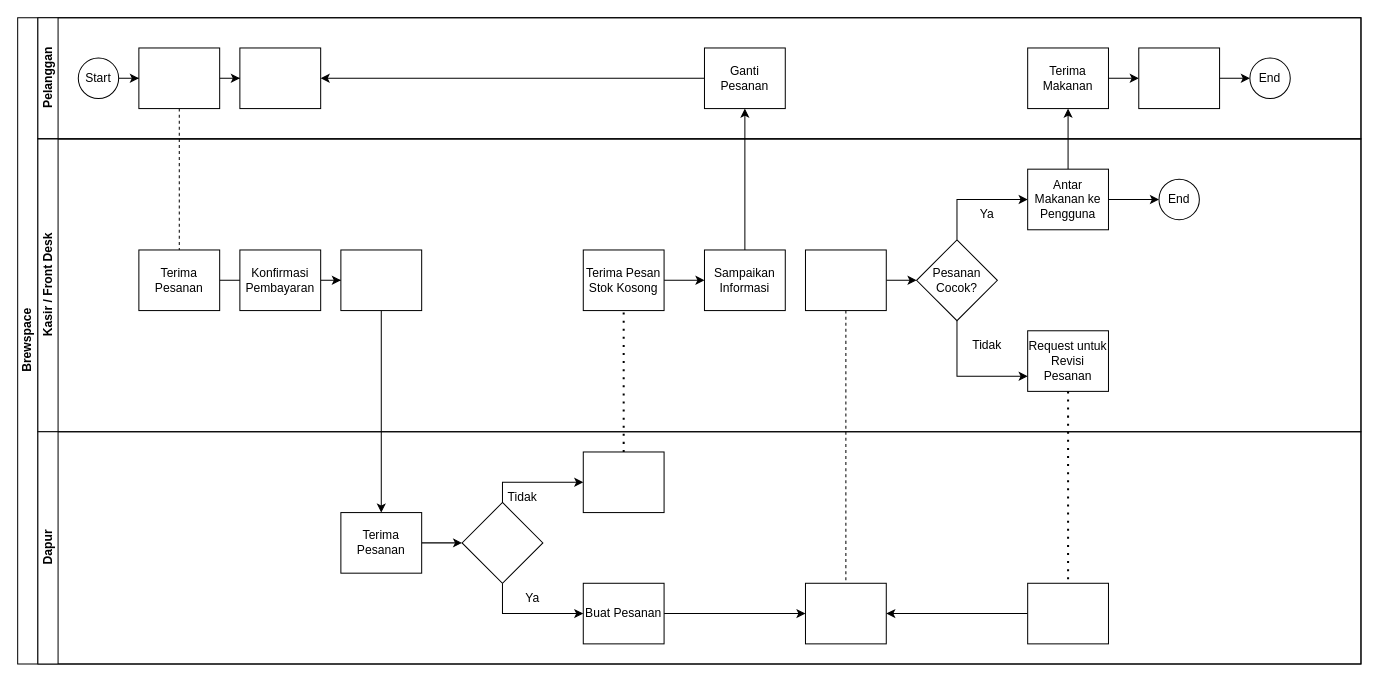
This 1379x682 diagram has some shape labels left out. The centre of each missing label's shape, as x and y in pixels:
Bahan cukup?: [502,542]
Bayar Pesanan: [280,78]
Berikan Makanan: [845,613]
Cek Kecocokan Pesanan: [845,280]
Konsumsi Makanan: [1179,78]
Pesan Makanan: [179,78]
Revisi Makanan: [1067,613]
Sampaikan Pesan Stok Kosong: [623,482]
Sampaikan Pesanan: [381,280]
